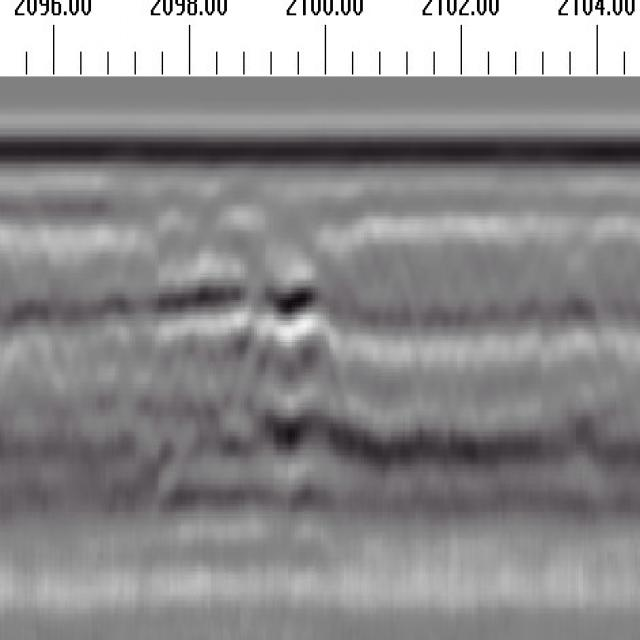loose: (159, 263, 349, 475)
